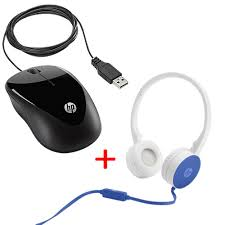hp-mouse-X1000: (1, 4, 122, 152)
